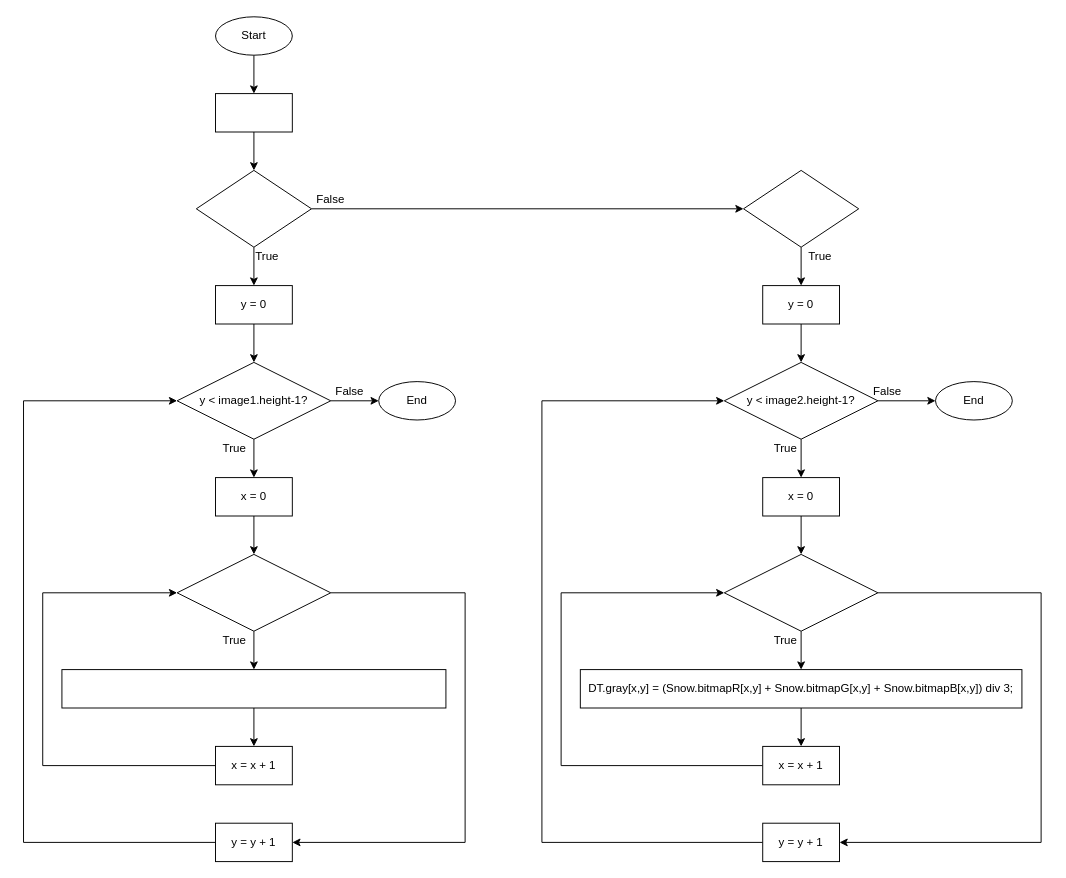
Some shapes in this 1066 by 878 pixel diagram are drawn without their labels. The shapes that lost their labels are listed below. From the top down, each one's centre as x and y in pixels, then its label:
At pixel 253 112: "x, y = integer;".
At pixel 253 208: "functionGray = 1?".
At pixel 801 208: "functionGray = 2?".
At pixel 253 592: "x < image1.height-1?".
At pixel 800 592: "x < image2.height-1?".
At pixel 253 688: "FL.gray[x,y] = (FL.bitmapR[x,y] + FL.bitmapG[x,y] + FL.bitmapB[x,y]) div 3;".
